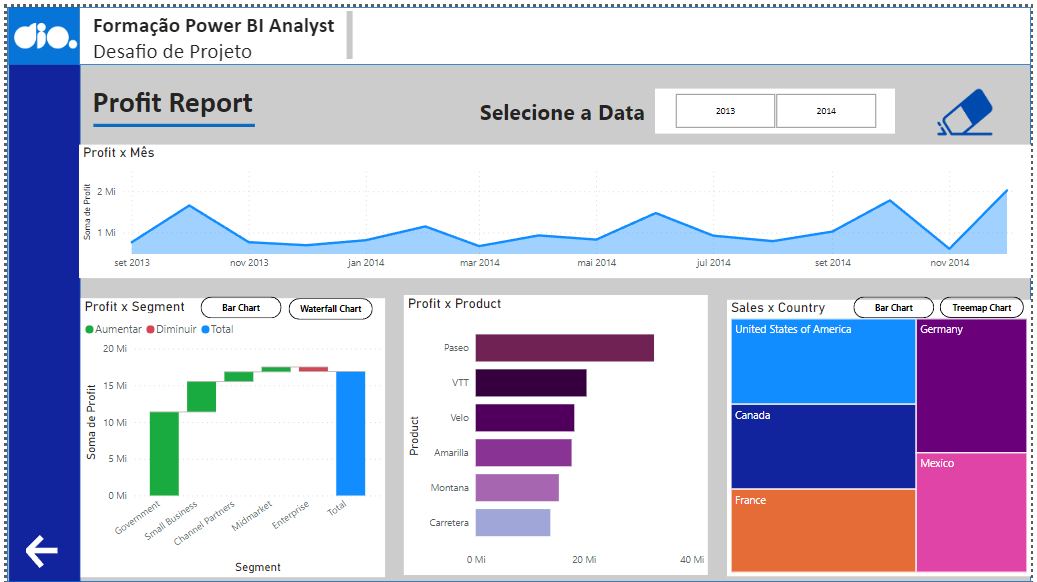

Layout of this report page (visuals, bound fields, positions):
{"tool":"powerbi","page":{"name":"Página 2","canvas":[1280,720],"ordinal":1},"visuals":[{"type":"shape","box":[0,0,1280,720],"z":0},{"type":"group","id":"g1","title":"Grupo 3","box":[2,0,91,720],"z":1000},{"type":"actionButton","box":[20,656,60,50],"z":2000},{"type":"shape","box":[108,124,202,48],"z":3000},{"type":"textbox","box":[102,90,250,68],"z":4000},{"type":"textbox","box":[585.8,108.7,224.5,54.4],"z":5000},{"type":"image","box":[1157.5,93,78.9,78.9],"z":6000},{"type":"slicer","fields":{"Values":["financials.Date.Variation.Hierarquia de datas.Ano"]},"box":[810,102,300,56],"z":7000},{"type":"shape","box":[90,0,1190,72.5],"z":8000},{"type":"textbox","box":[101.2,0,335,72.5],"z":9000},{"type":"areaChart","title":"Profit x Mês","fields":{"Y":["Sum(financials.Profit)"],"Category":["financials.Date.Variation.Hierarquia de datas.Ano","financials.Date.Variation.Hierarquia de datas.Mês"]},"box":[90,171.7,1190,166.7],"z":10000},{"type":"group","id":"g2","title":"Grupo 2","box":[900,360,380,351.7],"z":11000},{"type":"clusteredBarChart","title":"Profit x Product","fields":{"Y":["Sum(financials. Sales)"],"Category":["financials.Product"]},"box":[495,360,380,350],"z":12000},{"type":"group","id":"g3","title":"Grupo 1","box":[90,360,381.7,351.7],"z":13000},{"type":"waterfallChart","title":"Profit x Segment","fields":{"Category":["financials.Segment"],"Y":["Sum(financials.Profit)"]},"box":[91.2,363.1,380.5,348.5],"z":21000,"group":"g3"},{"type":"treemap","title":"Sales x Country","fields":{"Group":["financials.Country"],"Values":["Sum(financials. Sales)"]},"box":[900,366.1,380,345.5],"z":23000,"group":"g2"},{"type":"shape","box":[2,0,90,720],"z":24251,"group":"g1"},{"type":"shape","box":[2,0,88.9,72.4],"z":25001,"group":"g1"},{"type":"image","box":[4.1,0,88.9,72.4],"z":25501,"group":"g1"},{"type":"shape","title":"b4","box":[1166.7,362.6,105.1,26.6],"z":33000,"group":"g2"},{"type":"shape","title":"b3","box":[1057.6,362.4,101,26.9],"z":34000,"group":"g2"},{"type":"shape","title":"b2","box":[351.4,363.2,105.2,26.8],"z":35000,"group":"g3"},{"type":"shape","title":"b1","box":[242.2,363,101.1,27.2],"z":35500,"group":"g3"}]}

Visuals, with their boxes in screenshot pixels (x1, y1, x2, y2):
shape: 3/3/1025/578
"Grupo 3" group: 4/3/77/578
actionButton: 19/527/67/567
shape: 89/102/250/140
textbox: 84/75/284/129
textbox: 471/90/650/133
image: 927/77/991/140
slicer - financials.Date.Variation.Hierarquia de datas.Ano: 650/84/890/129
shape: 75/3/1025/61
textbox: 84/3/351/61
"Profit x Mês" areaChart: 75/140/1025/273
"Grupo 2" group: 722/290/1025/571
"Profit x Product" clusteredBarChart: 398/290/702/570
"Grupo 1" group: 75/290/380/571
"Profit x Segment" waterfallChart: 76/293/380/571
"Sales x Country" treemap: 722/295/1025/571
shape: 4/3/76/578
shape: 4/3/75/61
image: 6/3/77/61
"b4" shape: 935/292/1019/314
"b3" shape: 848/292/928/314
"b2" shape: 283/293/368/314
"b1" shape: 196/293/277/314
